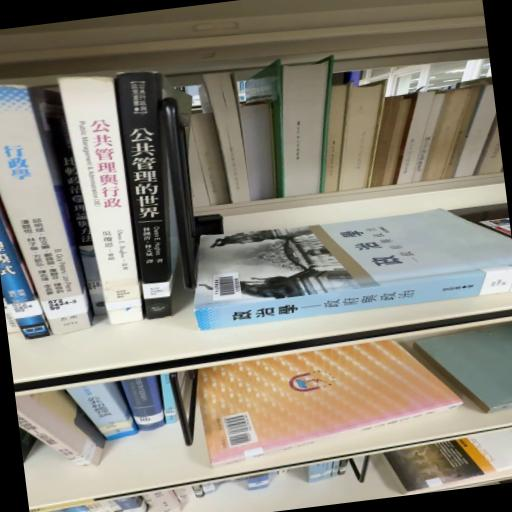flat: (194, 209, 512, 330), (197, 340, 462, 467)
